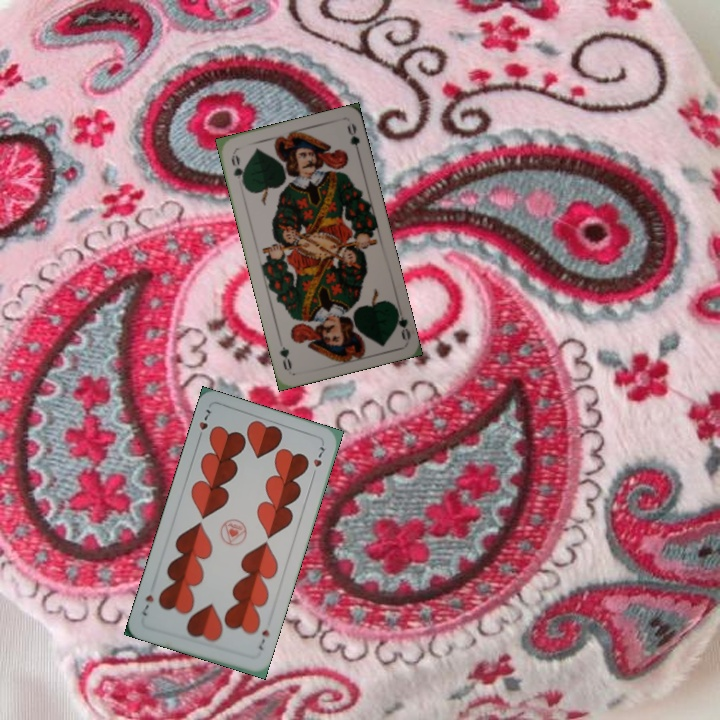GO: (391, 303, 413, 343), (227, 149, 248, 189)
H7: (194, 405, 213, 443), (254, 625, 272, 653)
